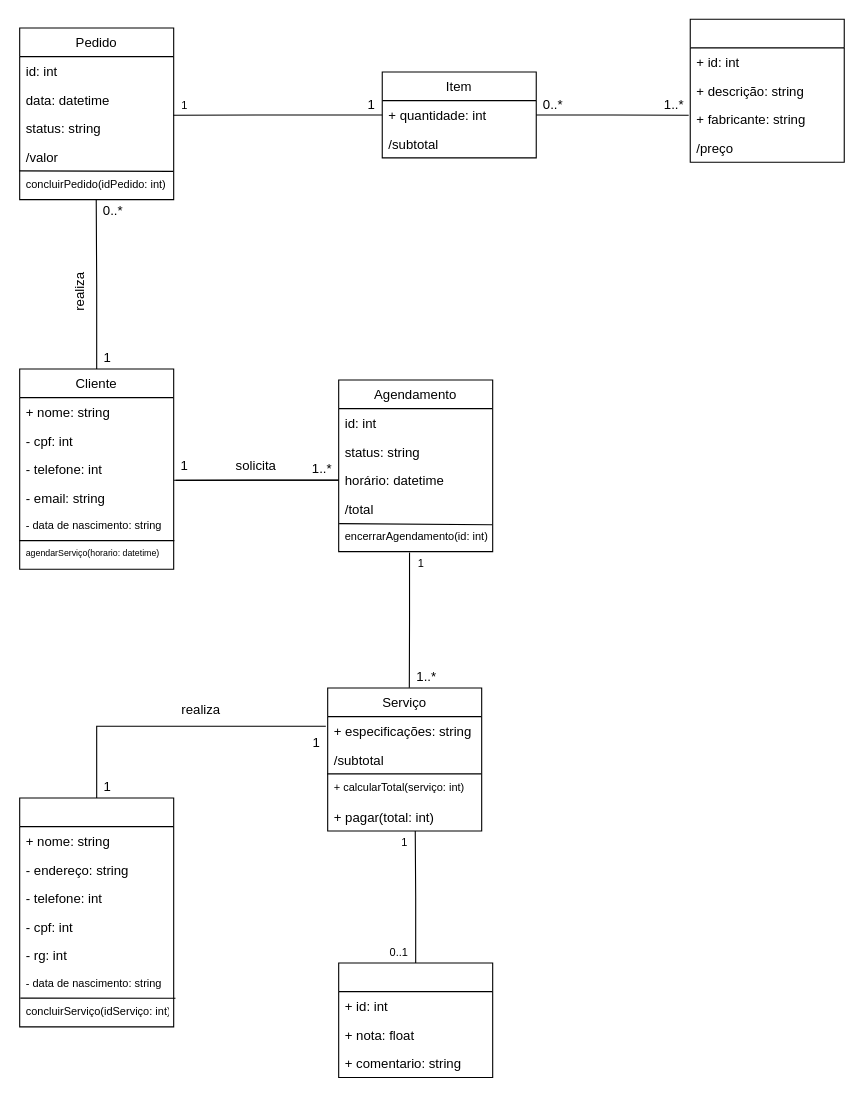
Some shapes in this 865 by 1100 pixel diagram are drawn without their labels. The box of each missing label's shape, as (x1, y1, x2, y2) in pixels:
Avaliações: (338, 962, 493, 1077)
Prestador de serviço: (19, 797, 174, 1027)
Produto: (689, 18, 844, 162)
